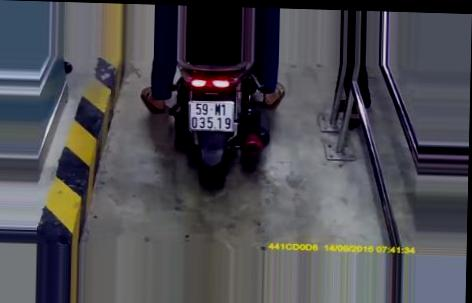License_Plate: (182, 96, 238, 137)
